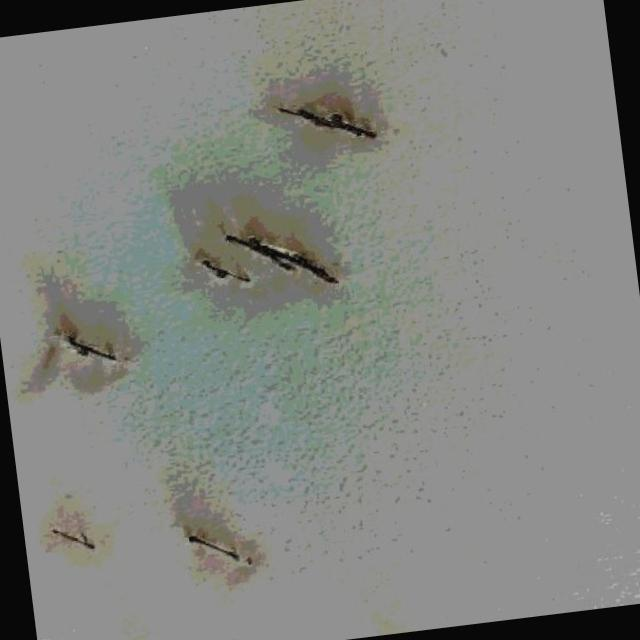crack: (224, 222, 330, 294), (277, 99, 372, 148), (194, 532, 252, 574), (61, 330, 116, 372), (49, 526, 92, 564), (199, 260, 242, 290)
